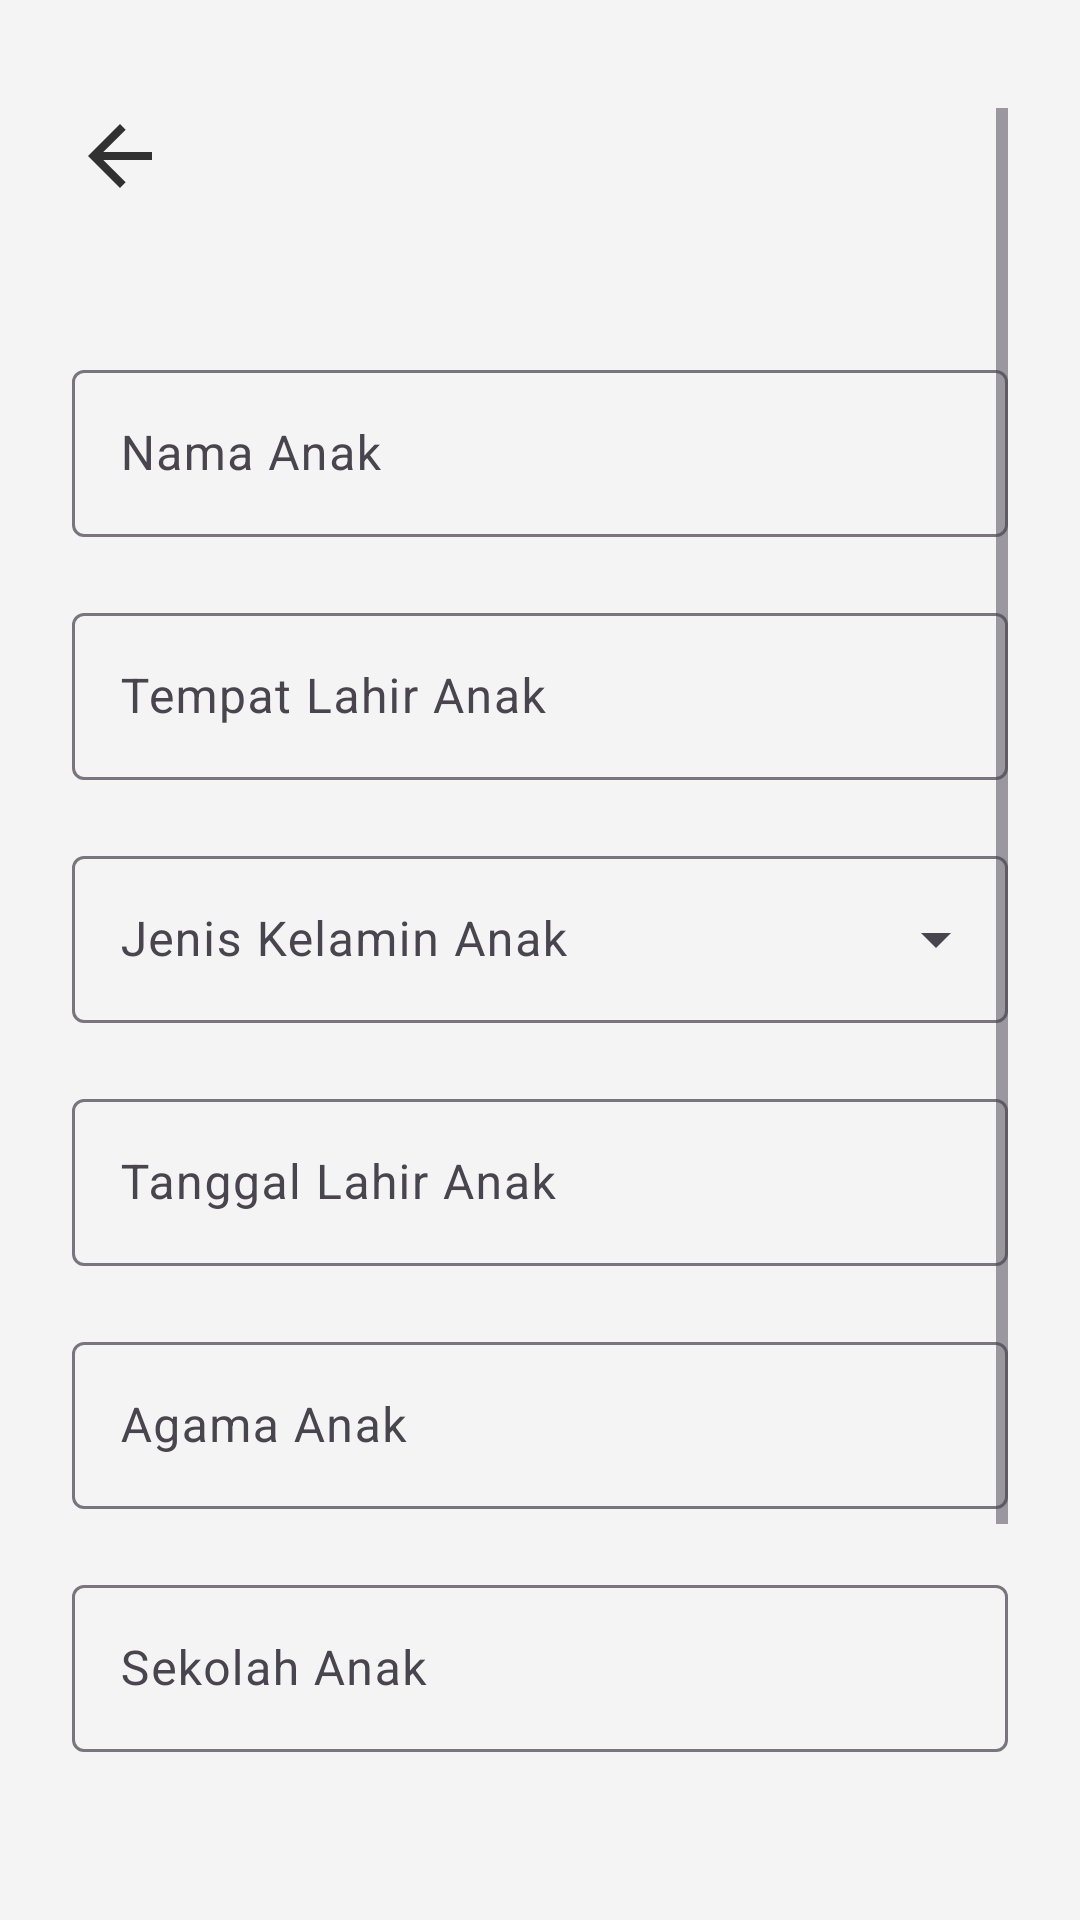

Screen size 1080px x 1920px. Icon name, then its center in pixels as (x,y):
arrow back: (120,156)
